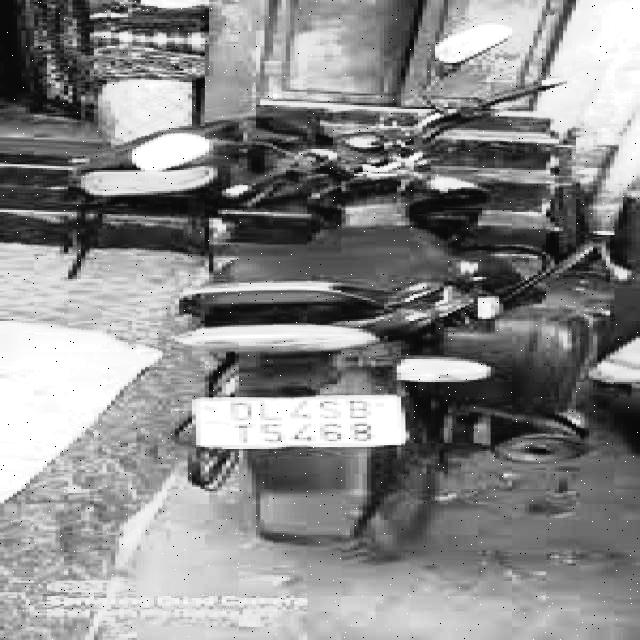Bike: (123, 128, 587, 564)
